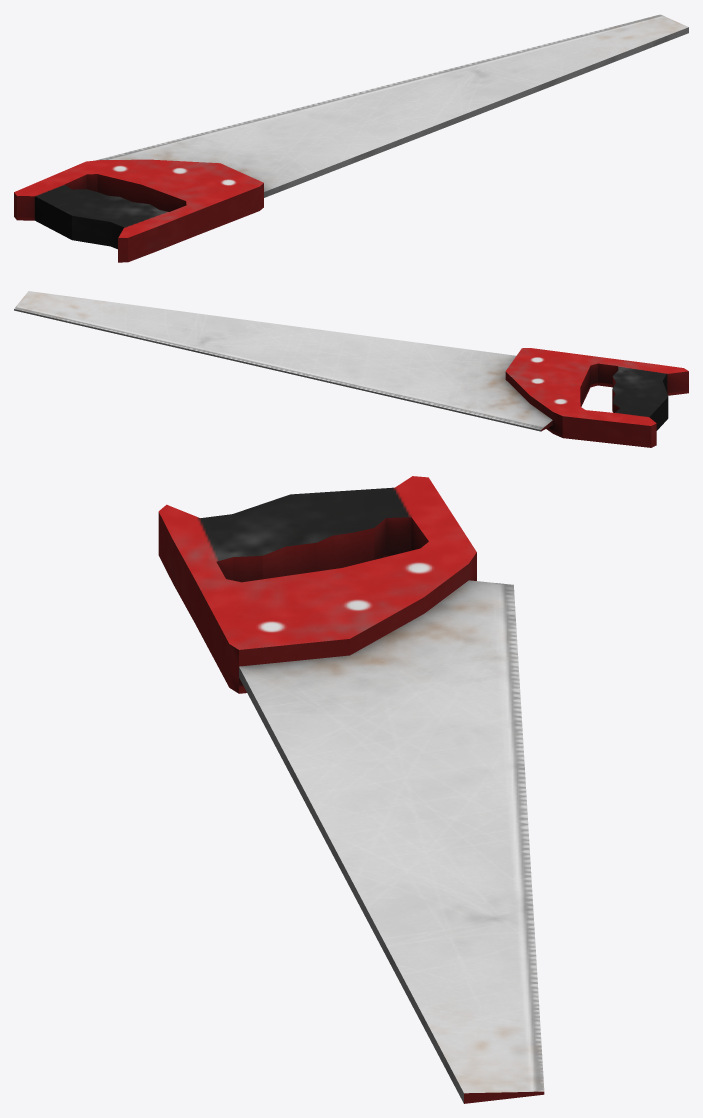
Rendered from saw.fbx.
The picture shows the model from 3 angles, top to bottom: view 1: azimuth 30°, elevation 25°; view 2: azimuth 150°, elevation 25°; view 3: azimuth 270°, elevation 25°; orthographic projection. The views are drawn at different scales.
Visible parts, largest first — view 1: saw; view 2: saw; view 3: saw.
Part boxes in pixels (box(x1,y1,x2,y2)): saw: box(14, 14, 688, 262); saw: box(14, 291, 688, 447); saw: box(158, 476, 544, 1103).
Size of the model in its own units: 0.7079 by 0.0241 by 0.1922.
